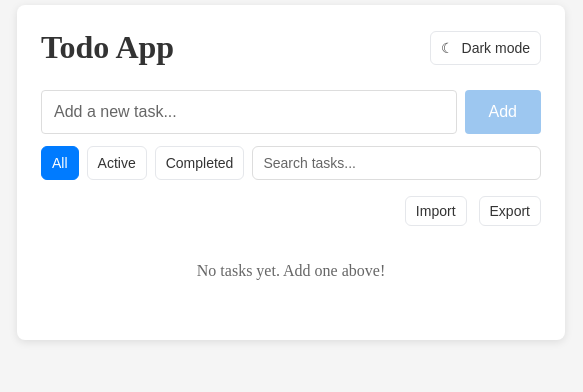
Scenario: shows only completed todos when the Completed filter is selected
This screenshot has width=583, height=392.
Type "active task" into the field with placeholder "Add a new task..." at (249,112), box [41,90,456,134]
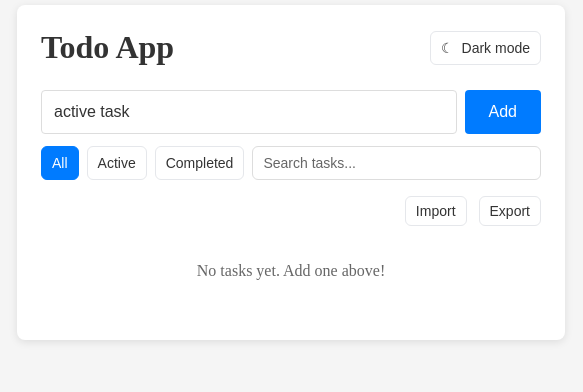
Submit the form with placeholder "Add a new task", box [41,90,541,134]
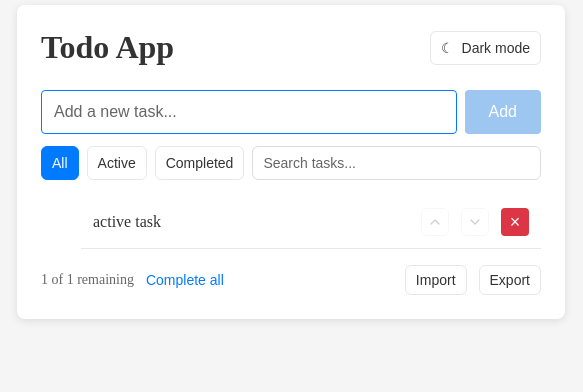
Type "completed task" into the field with placeholder "Add a new task..." at (249,112), box [41,90,456,134]
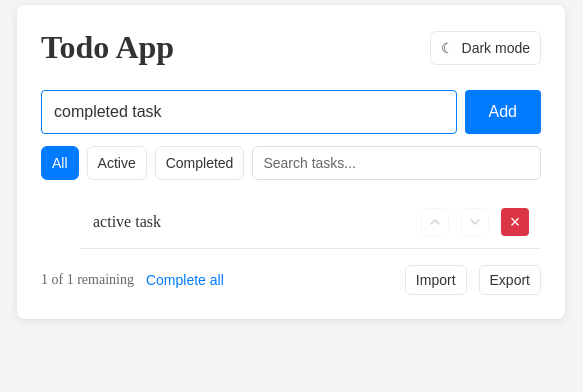
Submit the form with placeholder "Add a new task", box [41,90,541,134]
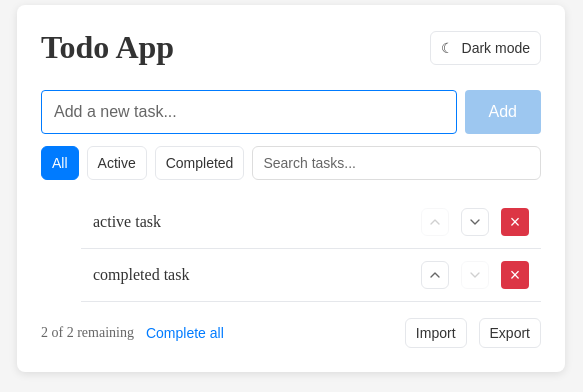
Click the text "completed task" at (141,274), box [93,266,189,283]
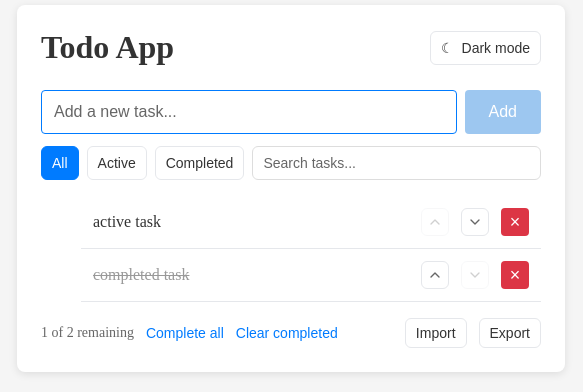
Click the button "Completed" at (200,163), box [155,146,244,180]
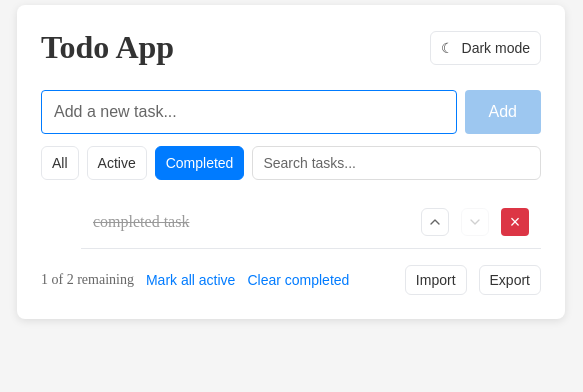
Now the text "completed task" is shown, box [93,213,189,230]
Now the text "active task" is gone
